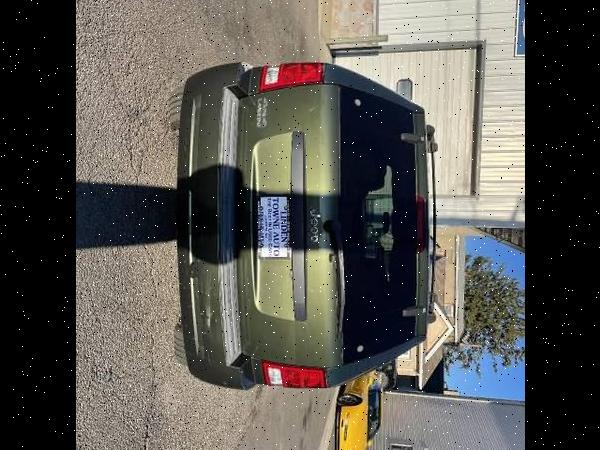Left_Taillight: (258, 63, 324, 92)
Rear_Bumper: (179, 61, 268, 391)
Rear_Windshield: (339, 86, 417, 364)
Right_Taillight: (263, 361, 329, 388)
Roof: (325, 63, 431, 387)
Tailgate: (236, 84, 343, 367)
